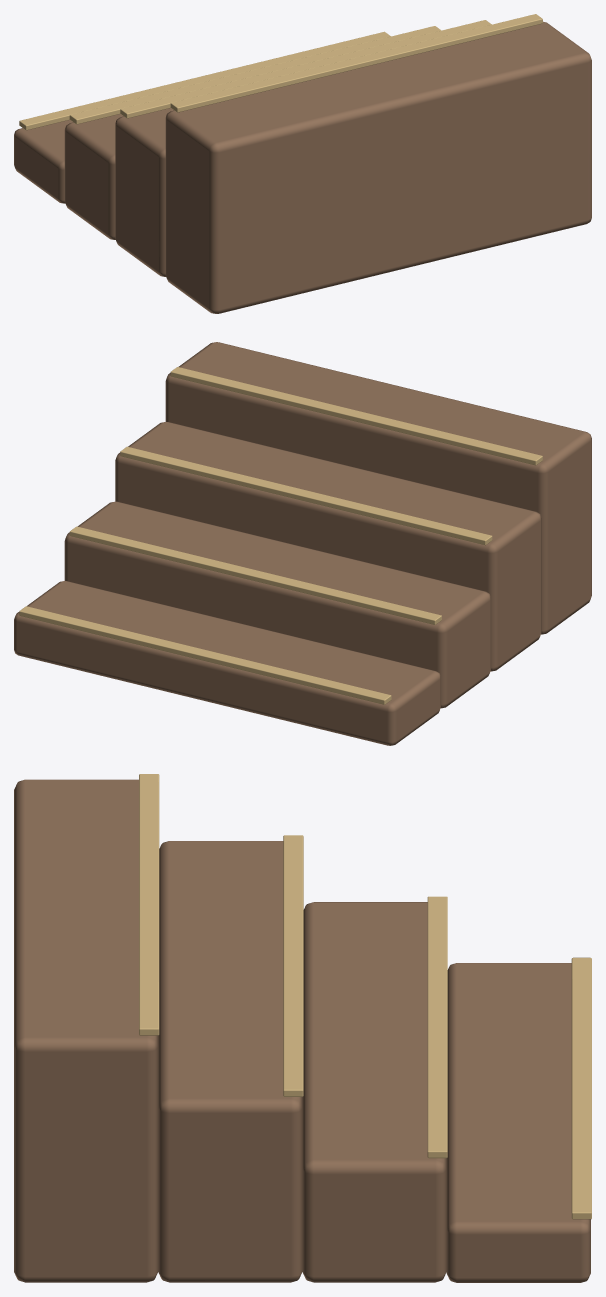
The model's file is abandoned-cinema-and-projection-booth-abandoned-cinema-188e9eab__29701.glb.
The picture shows the model from 3 angles, top to bottom: view 1: azimuth 30°, elevation 25°; view 2: azimuth 150°, elevation 25°; view 3: azimuth 270°, elevation 25°; orthographic projection. The views are drawn at different scales.
Parts seen in each view (by area): view 1: abandoned-cinema-and-projection-booth-stage-stair; view 2: abandoned-cinema-and-projection-booth-stage-stair; view 3: abandoned-cinema-and-projection-booth-stage-stair.
Part boxes in pixels (<box>): abandoned-cinema-and-projection-booth-stage-stair: <box>14,14,591,313</box>; abandoned-cinema-and-projection-booth-stage-stair: <box>14,342,591,745</box>; abandoned-cinema-and-projection-booth-stage-stair: <box>14,774,591,1282</box>.
Bounding box in the file's own units: 1.4 × 0.618 × 1.28.
